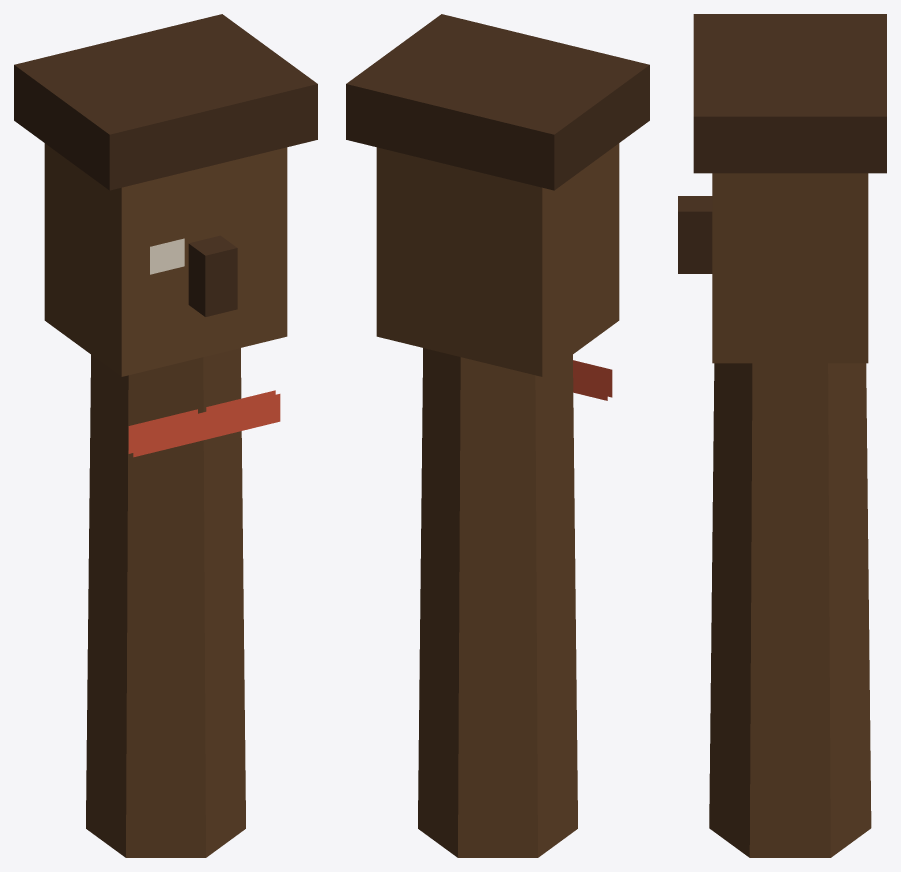
File: prop_jangseung_lod1.glb
3 renders of one model, left to right at view 1: azimuth 30°, elevation 25°; view 2: azimuth 150°, elevation 25°; view 3: azimuth 270°, elevation 25°, orthographic.
Visible parts, largest first — view 1: prop_jangseung_lod1; view 2: prop_jangseung_lod1; view 3: prop_jangseung_lod1.
Boxes of the visible parts, box(x1,y1,x2,y2) form: prop_jangseung_lod1: box(14, 14, 317, 857); prop_jangseung_lod1: box(346, 14, 649, 857); prop_jangseung_lod1: box(678, 14, 886, 857).
Bounding box in the file's own units: 0.78 × 2.7 × 0.67.
